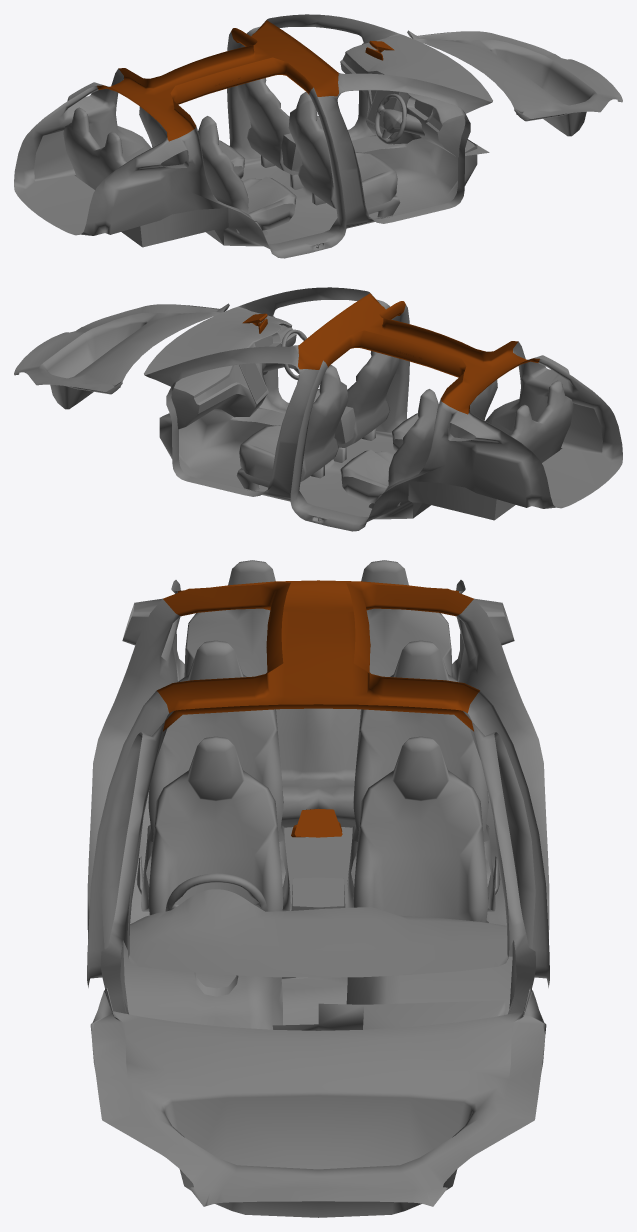
Rendered from Interior_6_Seater_RHD.obj.
3 views of the same model, one above another, from view 1: azimuth 30°, elevation 25°; view 2: azimuth 150°, elevation 25°; view 3: azimuth 270°, elevation 25° (orthographic). The views are drawn at different scales.
Visible parts, largest first — view 1: Interior_6_Seater_RHD; view 2: Interior_6_Seater_RHD; view 3: Interior_6_Seater_RHD.
Boxes of the visible parts, x1,y1,x2,y2 form: Interior_6_Seater_RHD: [14, 14, 622, 258]; Interior_6_Seater_RHD: [14, 287, 622, 531]; Interior_6_Seater_RHD: [87, 560, 549, 1217].
Size of the model in its own units: 4.9 by 1.31 by 1.75.
